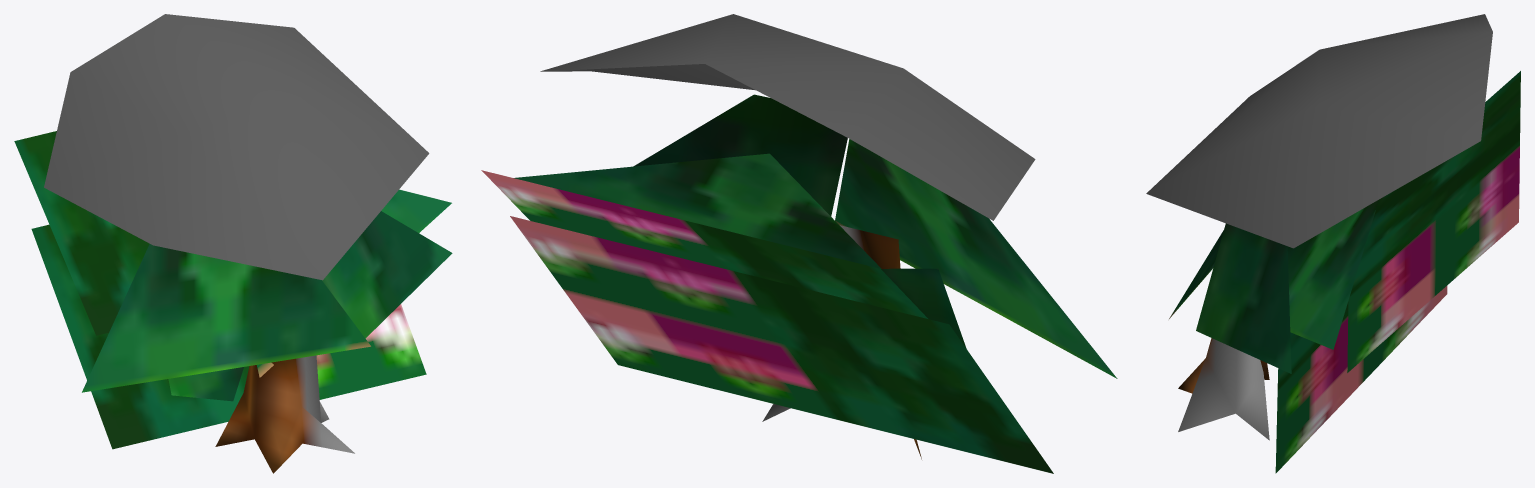
The model's file is fg_bushA_1_s.dae.
3 views of the same model, side by side, from view 1: azimuth 30°, elevation 25°; view 2: azimuth 150°, elevation 25°; view 3: azimuth 270°, elevation 25° (orthographic). The views are drawn at different scales.
Parts seen in each view (by area): view 1: fg_bushA_1_s; view 2: fg_bushA_1_s; view 3: fg_bushA_1_s.
Boxes of the visible parts, bbox=[...] form: fg_bushA_1_s: bbox=[14, 14, 452, 473]; fg_bushA_1_s: bbox=[481, 14, 1117, 473]; fg_bushA_1_s: bbox=[1146, 14, 1520, 473].
Size of the model in its own units: 35.43 by 29.02 by 26.23.
Materials: 1 (1 with a texture image).
